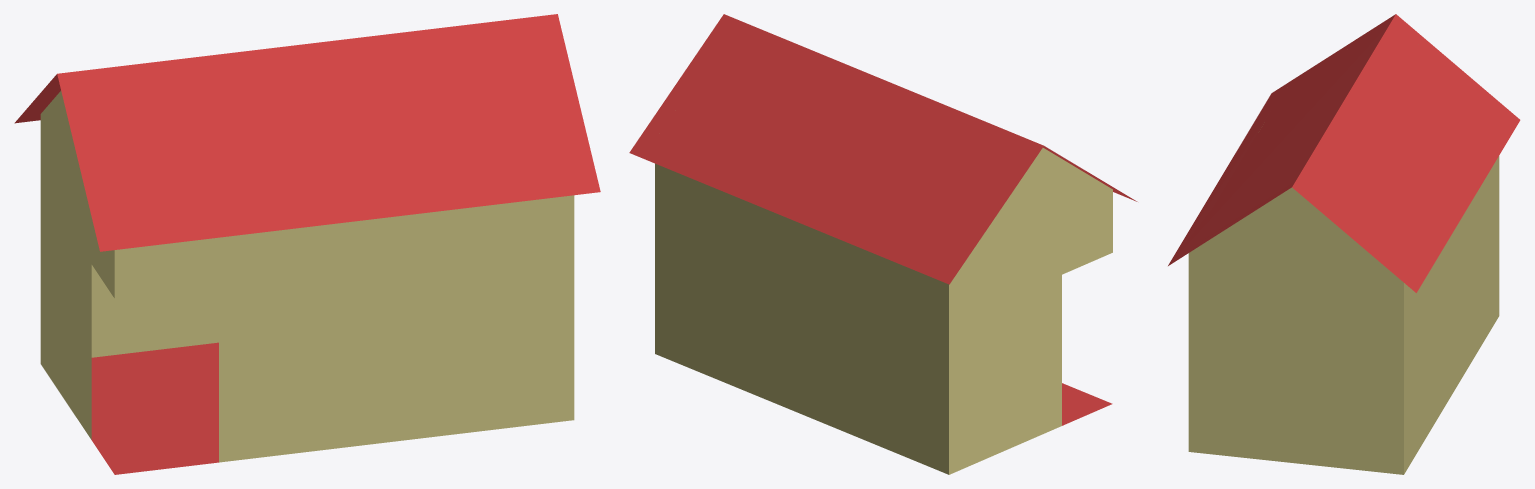
3 views of the same model, side by side, from view 1: azimuth 30°, elevation 25°; view 2: azimuth 150°, elevation 25°; view 3: azimuth 270°, elevation 25° (orthographic). The views are drawn at different scales.
Size of the model in its own units: 20.45 by 15.26 by 13.5.
